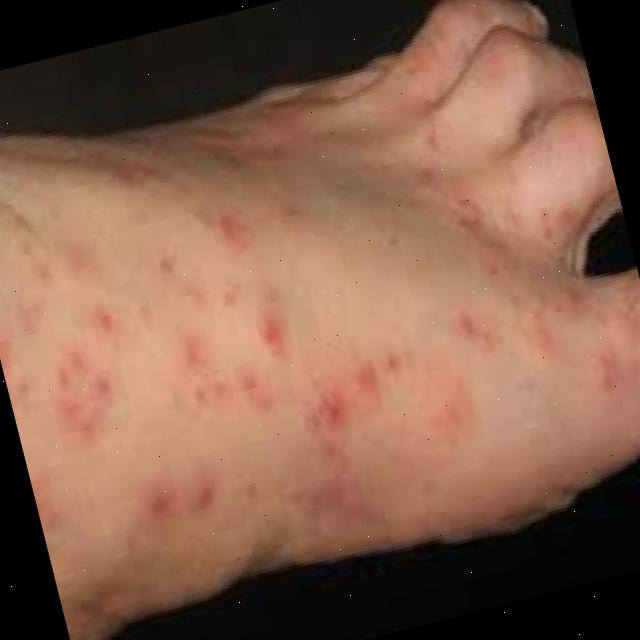tahta-kurusu: (17, 142, 500, 504)
